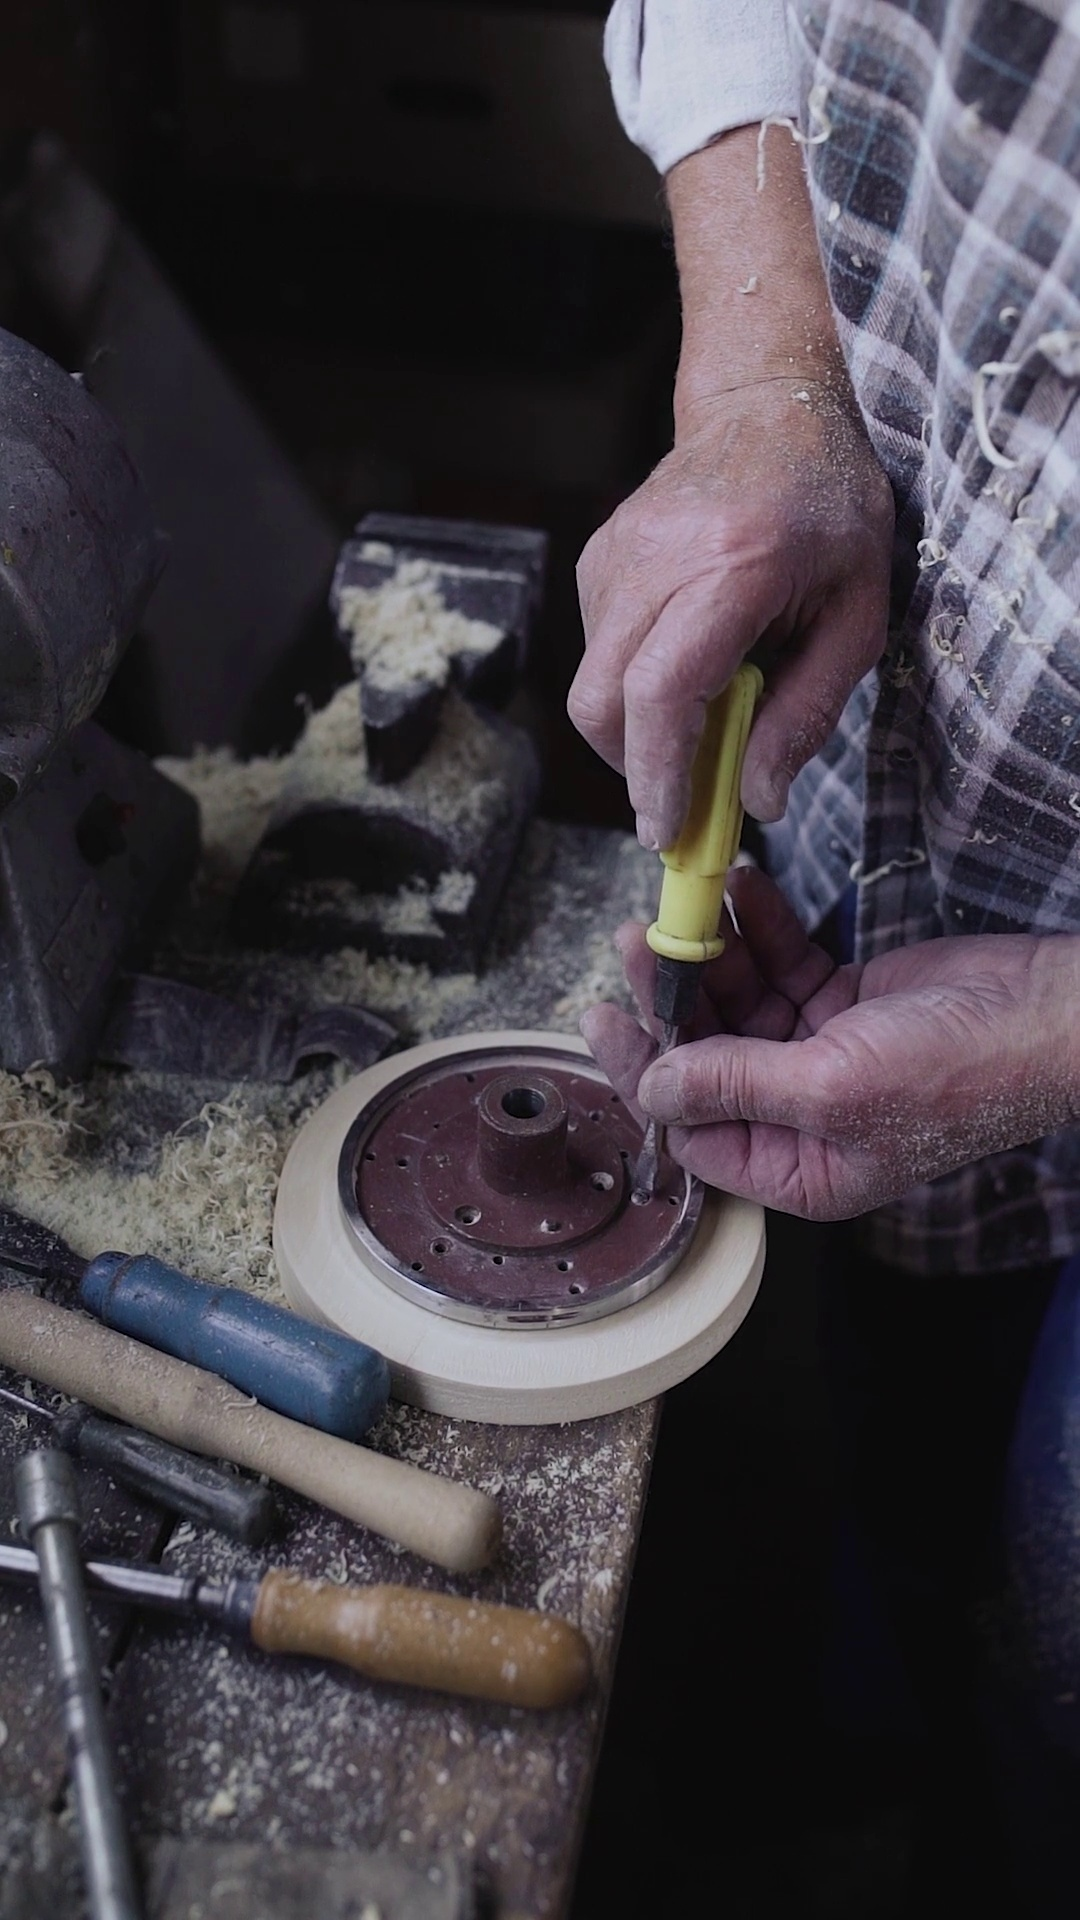screwdriver: (628, 646, 771, 1200)
